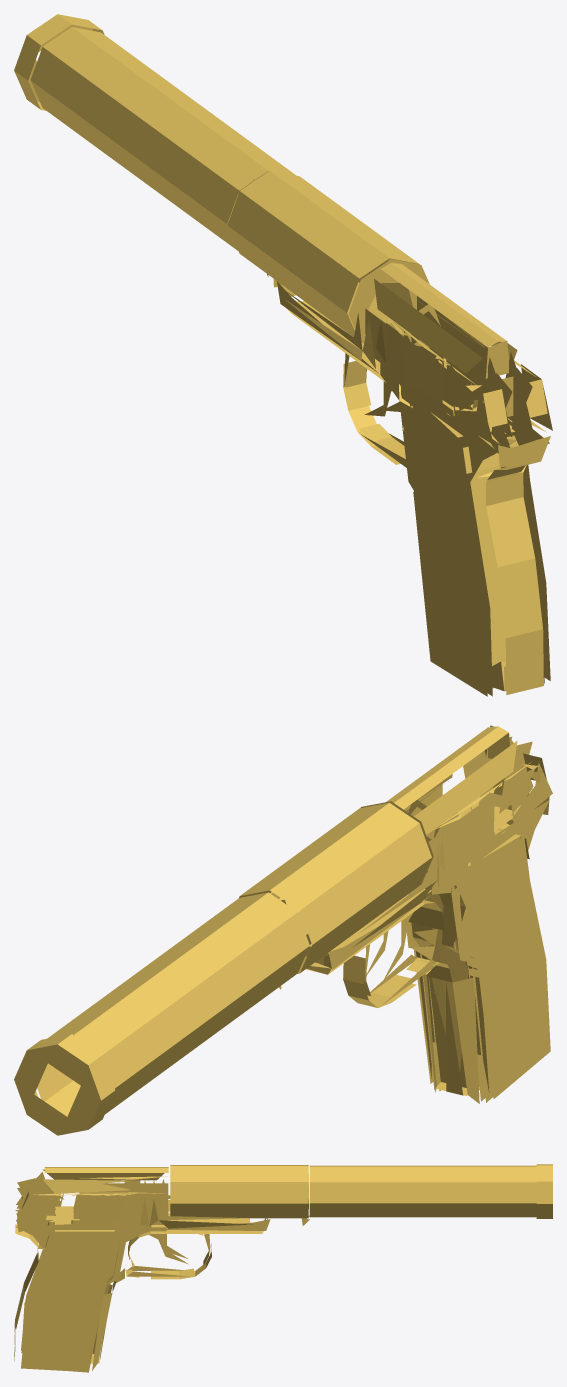
Rendered from charm_mst_pistol_12.glb.
The picture shows the model from 3 angles, top to bottom: view 1: azimuth 30°, elevation 25°; view 2: azimuth 150°, elevation 25°; view 3: azimuth 270°, elevation 25°; orthographic projection. The views are drawn at different scales.
Parts seen in each view (by area): view 1: p0_paint; view 2: p0_paint; view 3: p0_paint.
Boxes of the visible parts, x1,y1,x2,y2 form: p0_paint: (14,14,552,696); p0_paint: (14,725,552,1135); p0_paint: (14,1164,552,1372).
Bounding box in the file's own units: 0.0334 × 0.127 × 0.31.
